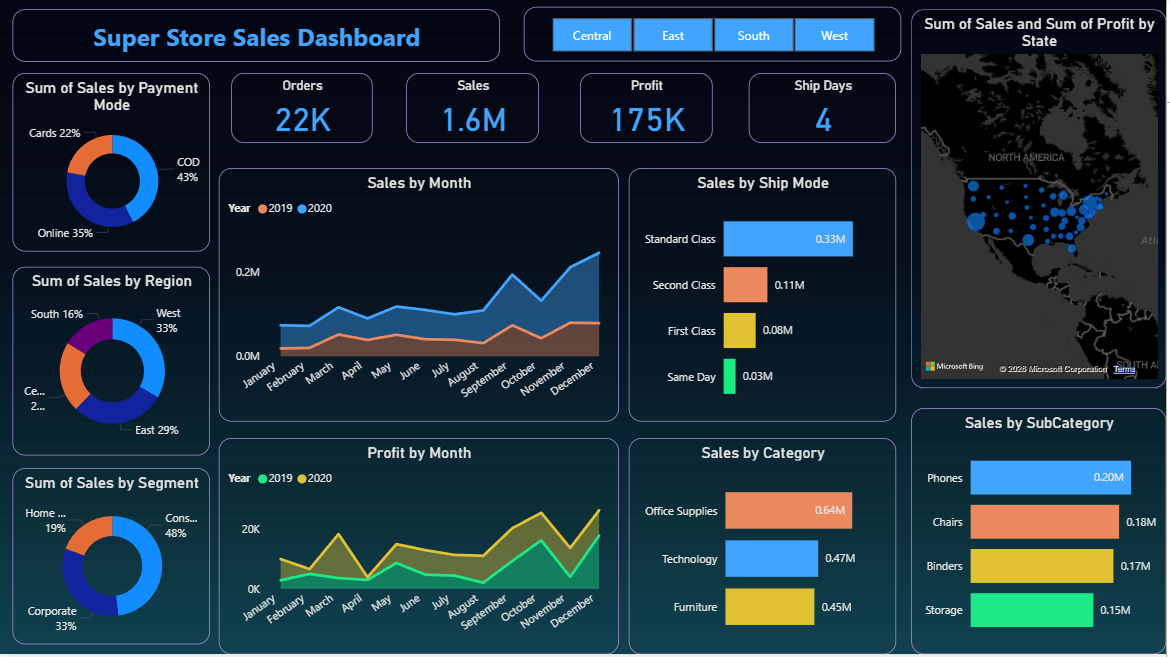

The page's visual inventory and layout, read from the dashboard file:
{"tool":"powerbi","page":{"name":"Page 1","canvas":[1280,720],"ordinal":0},"visuals":[{"type":"clusteredBarChart","title":"Sales by Category","fields":{"Category":["SuperStore_Sales_Dataset.Category"],"Y":["Sum(SuperStore_Sales_Dataset.Sales)"]},"box":[690.2,483,293.7,237.4],"z":0},{"type":"clusteredBarChart","title":"Sales by SubCategory","fields":{"Category":["SuperStore_Sales_Dataset.Sub-Category"],"Y":["Sum(SuperStore_Sales_Dataset.Sales)"]},"box":[1000.3,450.1,279.9,270.3],"z":1000},{"type":"clusteredBarChart","title":"Sales by Ship Mode","fields":{"Category":["SuperStore_Sales_Dataset.Ship Mode"],"Y":["Sum(SuperStore_Sales_Dataset.Sales)"]},"box":[690.2,186.6,293.7,278.6],"z":2000},{"type":"stackedAreaChart","title":"Sales by Month","fields":{"Y":["Sum(SuperStore_Sales_Dataset.Sales)"],"Category":["SuperStore_Sales_Dataset.Order Date.Variation.Date Hierarchy.Month","SuperStore_Sales_Dataset.Order Date.Variation.Date Hierarchy.Day"],"Series":["SuperStore_Sales_Dataset.Order Date.Variation.Date Hierarchy.Year"]},"box":[240.1,186.6,439.1,278.6],"z":3000},{"type":"stackedAreaChart","title":"Profit by Month","fields":{"Category":["SuperStore_Sales_Dataset.Order Date.Variation.Date Hierarchy.Month","SuperStore_Sales_Dataset.Order Date.Variation.Date Hierarchy.Day"],"Series":["SuperStore_Sales_Dataset.Order Date.Variation.Date Hierarchy.Year"],"Y":["Sum(SuperStore_Sales_Dataset.Profit)"]},"box":[240.1,483,439.1,237.4],"z":4000},{"type":"map","fields":{"Category":["SuperStore_Sales_Dataset.State"],"Size":["Sum(SuperStore_Sales_Dataset.Sales)"]},"box":[1000.3,12.3,279.9,415.8],"z":5000},{"type":"donutChart","fields":{"Category":["SuperStore_Sales_Dataset.Segment"],"Y":["Sum(SuperStore_Sales_Dataset.Sales)"]},"box":[13.7,516,216.8,193.5],"z":6000},{"type":"donutChart","fields":{"Y":["Sum(SuperStore_Sales_Dataset.Sales)"],"Category":["SuperStore_Sales_Dataset.Payment Mode"]},"box":[13.7,82.3,216.8,196.2],"z":7000},{"type":"donutChart","fields":{"Y":["Sum(SuperStore_Sales_Dataset.Sales)"],"Category":["SuperStore_Sales_Dataset.Region"]},"box":[13.7,295,216.8,207.2],"z":8000},{"type":"slicer","fields":{"Values":["SuperStore_Sales_Dataset.Region"]},"box":[575,9.6,414.4,60.4],"z":9000},{"type":"textbox","box":[13.7,12.3,535.2,57.6],"z":10000},{"type":"card","title":"Sales","fields":{"Values":["Sum(SuperStore_Sales_Dataset.Sales)"]},"box":[446,82.3,145.5,76.8],"z":11000},{"type":"card","title":"Orders","fields":{"Values":["Sum(SuperStore_Sales_Dataset.Quantity)"]},"box":[253.9,82.3,155.1,76.8],"z":12000},{"type":"card","title":"Profit","fields":{"Values":["Sum(SuperStore_Sales_Dataset.Profit)"]},"box":[636.7,82.3,145.5,76.8],"z":13000},{"type":"card","title":"Ship Days","fields":{"Values":["Avg(SuperStore_Sales_Dataset.AvgDelivery)"]},"box":[822,82.3,161.9,76.8],"z":14000}]}

Visuals, with their boxes in screenshot pixels (x1, y1, x2, y2), scaled from the page's 1280x720 canvas onto the 1170x657 screenshot:
"Sales by Category" clusteredBarChart: l=631, t=441, r=899, b=656
"Sales by SubCategory" clusteredBarChart: l=914, t=411, r=1169, b=656
"Sales by Ship Mode" clusteredBarChart: l=631, t=170, r=899, b=424
"Sales by Month" stackedAreaChart: l=219, t=170, r=621, b=424
"Profit by Month" stackedAreaChart: l=219, t=441, r=621, b=656
map - SuperStore_Sales_Dataset.State x Sum(SuperStore_Sales_Dataset.Sales): l=914, t=11, r=1169, b=391
donutChart - SuperStore_Sales_Dataset.Segment x Sum(SuperStore_Sales_Dataset.Sales): l=13, t=471, r=211, b=647
donutChart - Sum(SuperStore_Sales_Dataset.Sales) x SuperStore_Sales_Dataset.Payment Mode: l=13, t=75, r=211, b=254
donutChart - Sum(SuperStore_Sales_Dataset.Sales) x SuperStore_Sales_Dataset.Region: l=13, t=269, r=211, b=458
slicer - SuperStore_Sales_Dataset.Region: l=526, t=9, r=904, b=64
textbox: l=13, t=11, r=502, b=64
"Sales" card: l=408, t=75, r=541, b=145
"Orders" card: l=232, t=75, r=374, b=145
"Profit" card: l=582, t=75, r=715, b=145
"Ship Days" card: l=751, t=75, r=899, b=145
